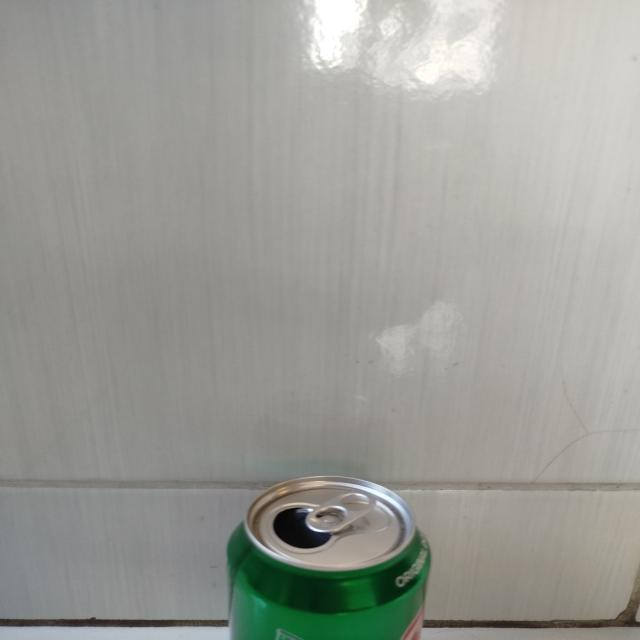Guarana: (224, 476, 432, 638)
